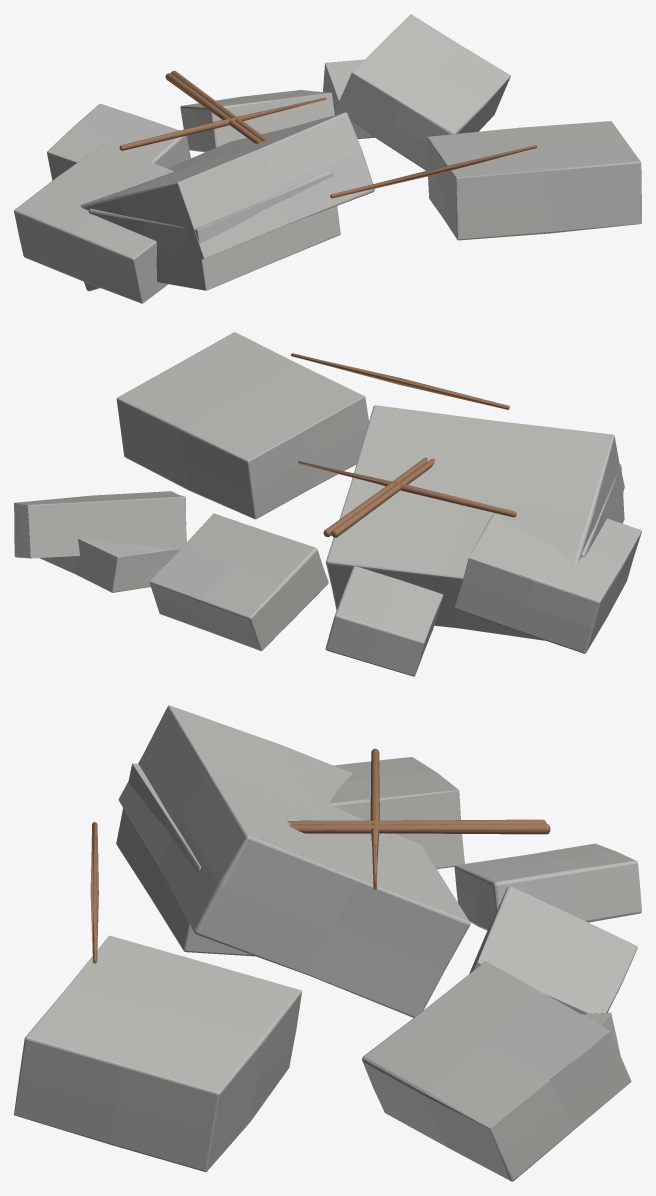
Rendered from SM_Debris_Concrete.fbx.
3 renders of one model, top to bottom at view 1: azimuth 30°, elevation 25°; view 2: azimuth 150°, elevation 25°; view 3: azimuth 270°, elevation 25°, orthographic. The views are drawn at different scales.
Visible parts, largest first — view 1: SM_Debris_Concrete; view 2: SM_Debris_Concrete; view 3: SM_Debris_Concrete.
Part boxes in pixels (box(x1,y1,x2,y2)): SM_Debris_Concrete: box(14, 14, 641, 303); SM_Debris_Concrete: box(14, 332, 641, 676); SM_Debris_Concrete: box(14, 705, 641, 1181).
Size of the model in its own units: 1.52 by 0.4086 by 1.14.
